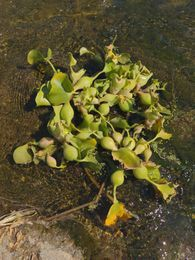water_hyacinth: (13, 42, 174, 225)
